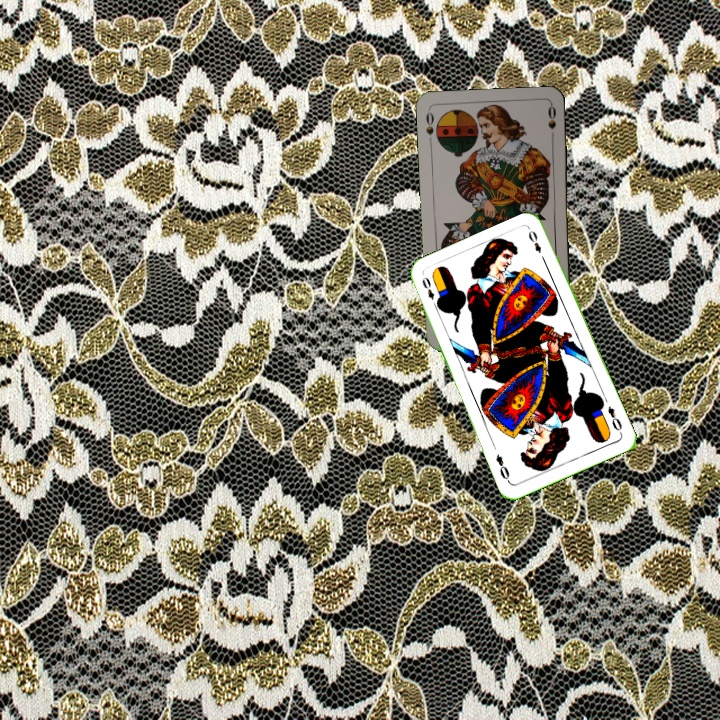EO: (418, 273, 441, 311), (603, 402, 625, 436)
SO: (422, 106, 436, 138)
